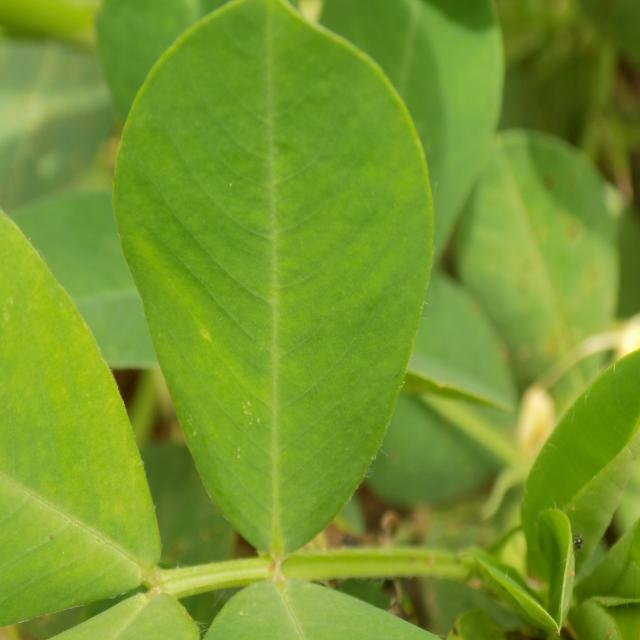Ground nut_healthy: (110, 0, 433, 565)
